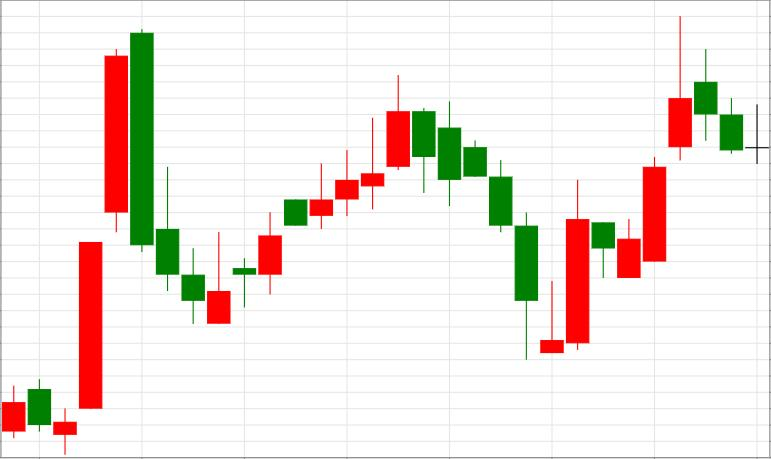bearish_engulfing_fall: (2, 28, 153, 455)
inverse_hammer_rise: (131, 28, 231, 324)
morning_star_rise: (412, 101, 589, 359)
shooting_star_fall: (540, 16, 692, 354)
